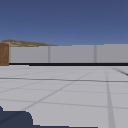obstacle: (1, 42, 9, 66)
